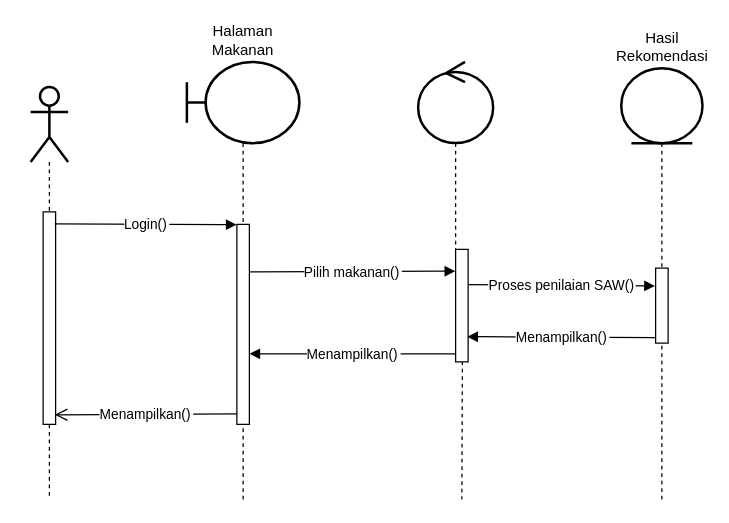
Some shapes in this 729 by 523 pixel diagram are drawn without their labels. The centre of each missing label's shape, as x and y in pixels:
control makanan: [455,102]
Member: [49,123]
